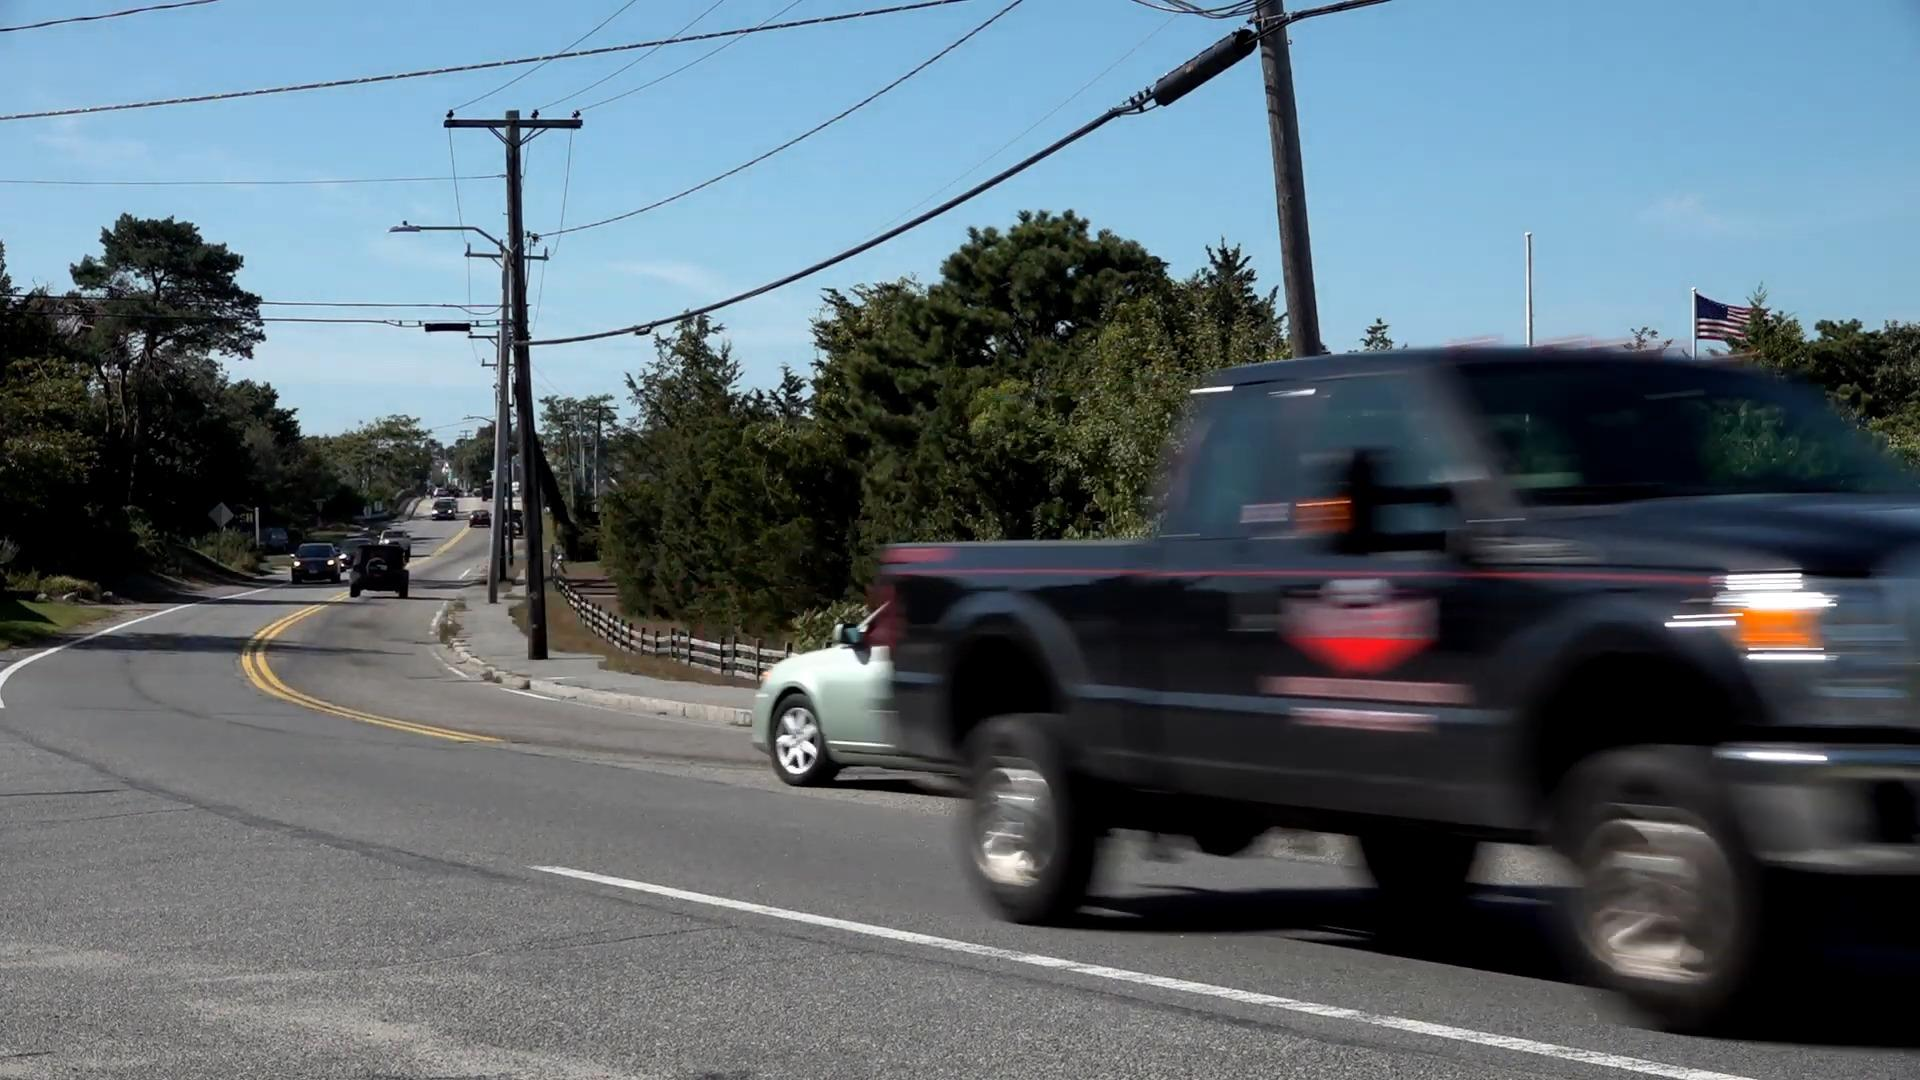pickup: (884, 345, 1920, 1026)
